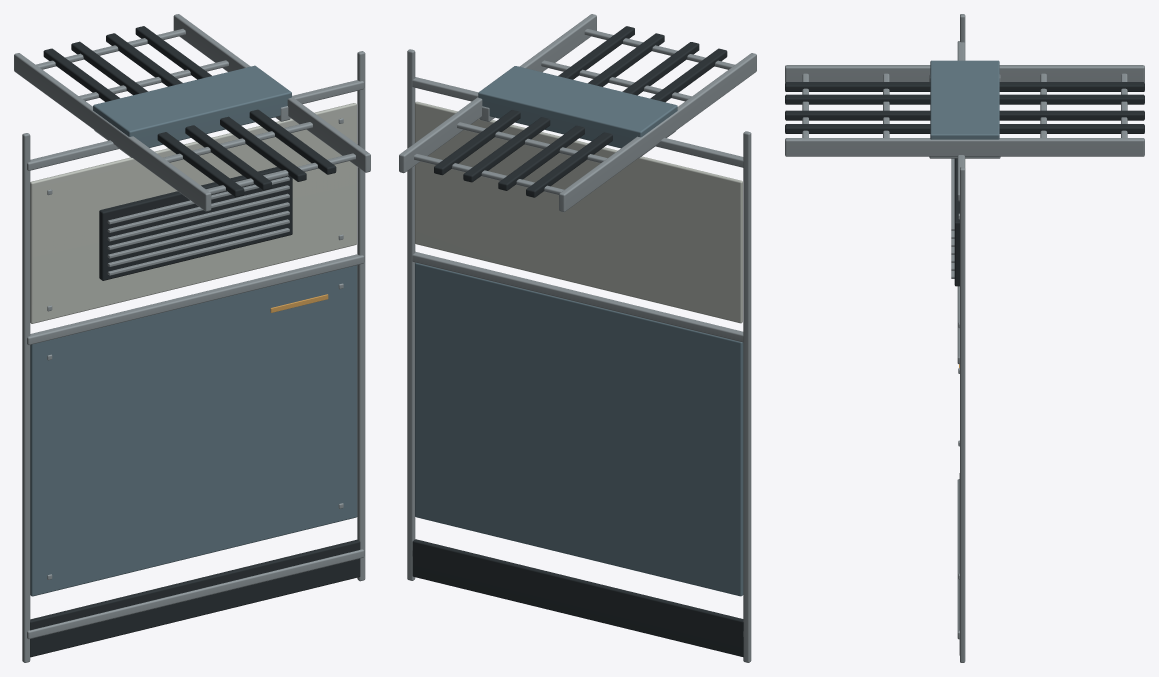
The model's file is control_room_kit.glb.
The picture shows the model from 3 angles, left to right: view 1: azimuth 30°, elevation 25°; view 2: azimuth 150°, elevation 25°; view 3: azimuth 270°, elevation 25°; orthographic projection. The views are drawn at different scales.
Visible parts, largest first — view 1: Service panel, Upper acoustic panel, Kick plate, Luminaire housing, Vent recess, Vertical joint, Tray rail, Vertical joint.001, Horizontal extrusion.001, Tray rail.001, Horizontal extrusion, Cable run.003 (+15 smaller); view 2: Service panel, Upper acoustic panel, Kick plate, Luminaire housing, Vertical joint, Tray rail, Vertical joint.001, Horizontal extrusion.001, Tray rail.001, Cable run.002, Cable run, Cable run.001 (+6 smaller); view 3: Tray rail.001, Luminaire housing, Tray rail, Cable run.001, Cable run.002, Vertical joint.001, Cable run, Cable run.003, Vent recess.
Boxes of the visible parts, x1,y1,x2,y2 form: Service panel: (30, 265, 357, 596); Upper acoustic panel: (30, 103, 356, 323); Kick plate: (30, 539, 360, 657); Luminaire housing: (93, 65, 291, 147); Vent recess: (99, 167, 292, 280); Vertical joint: (22, 133, 30, 662); Tray rail: (14, 53, 211, 211); Vertical joint.001: (357, 51, 365, 581); Horizontal extrusion.001: (27, 254, 364, 345); Tray rail.001: (173, 14, 370, 172); Horizontal extrusion: (27, 549, 364, 639); Cable run.003: (135, 26, 336, 174); Service panel: (415, 262, 743, 596); Upper acoustic panel: (415, 101, 742, 323); Kick plate: (412, 539, 743, 656); Luminaire housing: (478, 66, 677, 148); Vertical joint: (743, 131, 751, 662); Tray rail: (559, 53, 756, 212); Vertical joint.001: (407, 49, 415, 580); Horizontal extrusion.001: (412, 251, 743, 342); Tray rail.001: (399, 14, 596, 173); Cable run.002: (463, 33, 664, 182); Cable run: (526, 48, 727, 197); Cable run.001: (498, 42, 699, 190); Tray rail.001: (785, 138, 1144, 156); Luminaire housing: (930, 60, 999, 139); Tray rail: (785, 65, 1144, 82); Cable run.001: (785, 94, 1144, 104); Cable run.002: (785, 110, 1144, 120); Vertical joint.001: (960, 167, 965, 662); Cable run: (785, 82, 1144, 91); Cable run.003: (785, 124, 1144, 133); Vent recess: (954, 158, 959, 286).
Bounding box in the file's own units: 1.97 × 2.91 × 1.92.
